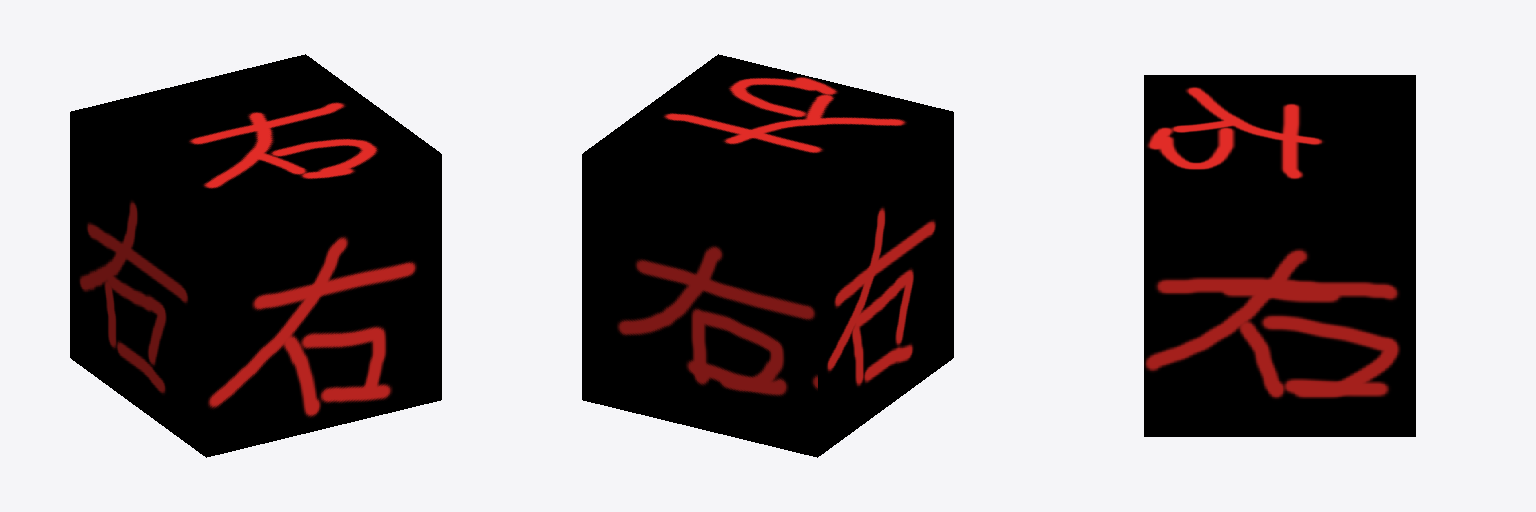
3 views of the same model, side by side, from view 1: azimuth 30°, elevation 25°; view 2: azimuth 150°, elevation 25°; view 3: azimuth 270°, elevation 25° (orthographic).
Parts seen in each view (by area): view 1: Cube; view 2: Cube; view 3: Cube.
Part boxes in pixels (left/top/right/bottom): Cube: left=70, top=54, right=441, bottom=457; Cube: left=582, top=54, right=953, bottom=457; Cube: left=1144, top=75, right=1415, bottom=436.
Bounding box in the file's own units: 0.4 × 0.4 × 0.4.
Materials: 1 (1 with a texture image).